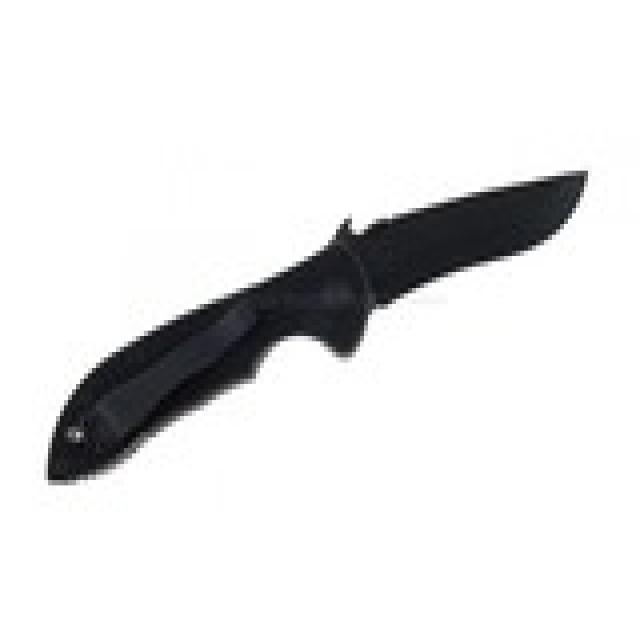Knife: (12, 152, 603, 508)
